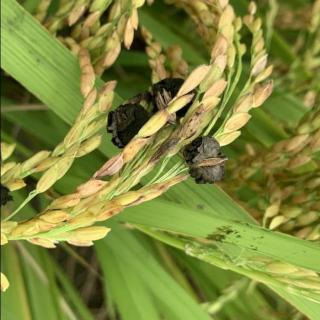Gosong-Palsu: (182, 136, 228, 187), (104, 103, 150, 149), (152, 78, 196, 122)
